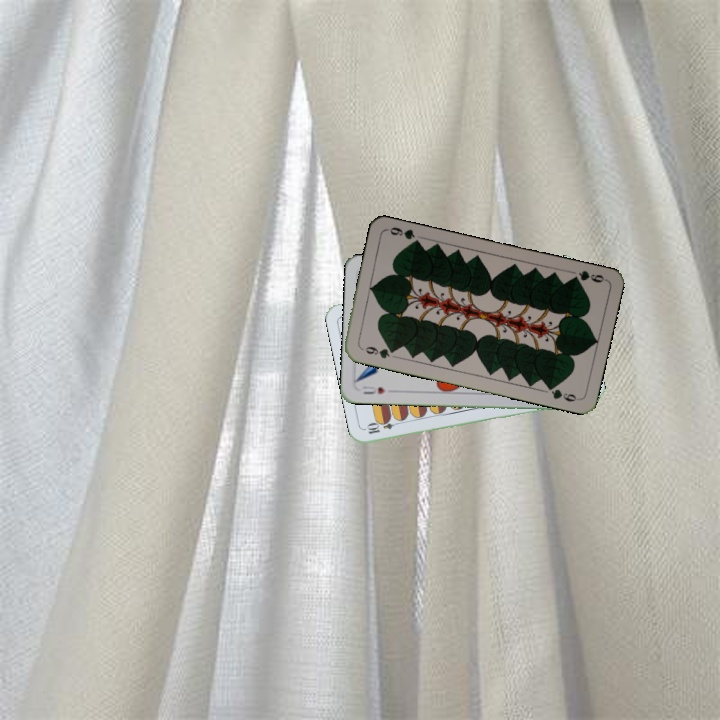E10: (363, 416, 403, 437)
G9: (566, 266, 608, 285), (357, 342, 398, 361)
HU: (359, 382, 388, 397)
